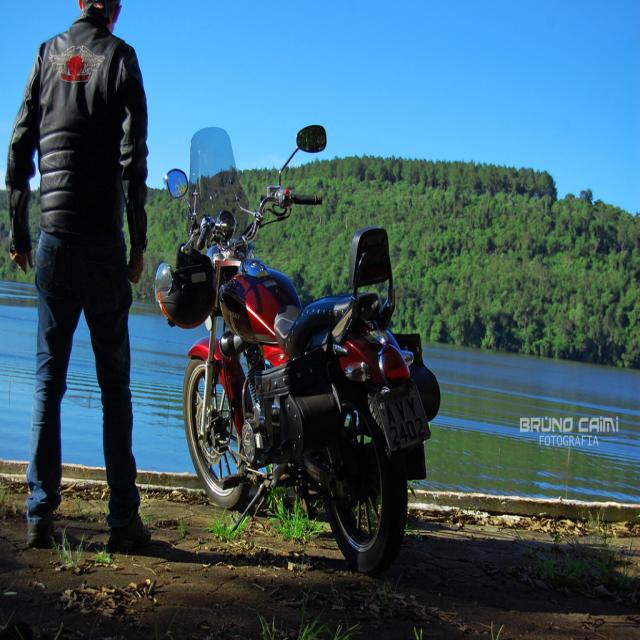Passenger Car: (170, 123, 416, 582)
Pedestrians: (3, 4, 159, 556)
